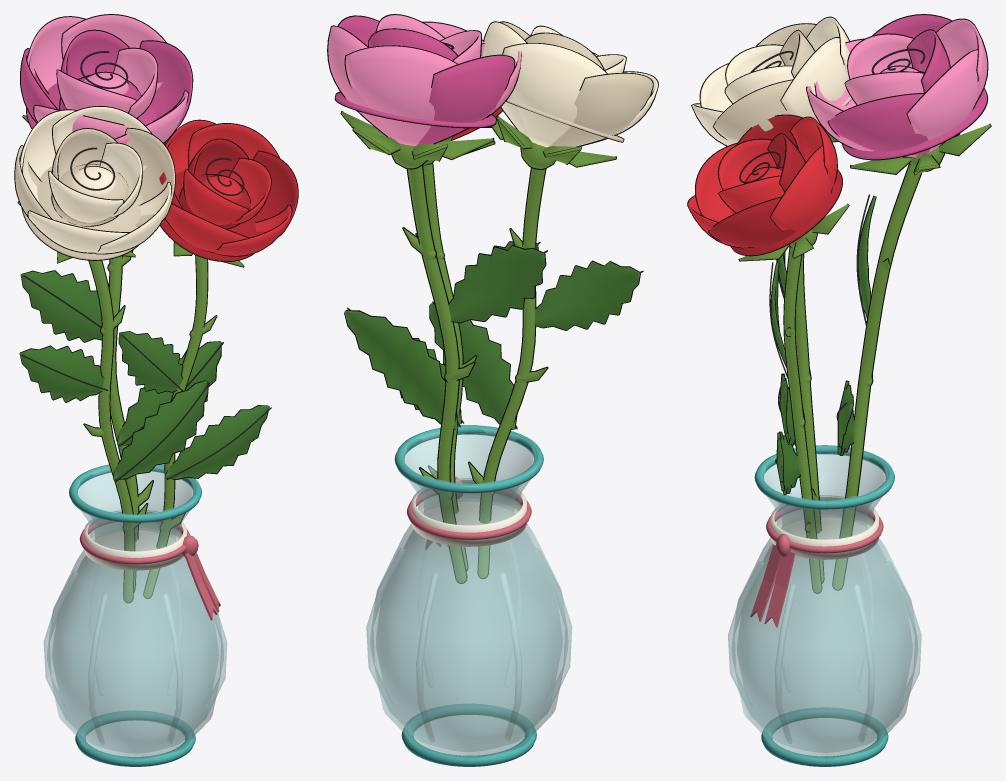
Rendered from vase_rose_flowers.glb.
3 renders of one model, left to right at view 1: azimuth 30°, elevation 25°; view 2: azimuth 150°, elevation 25°; view 3: azimuth 270°, elevation 25°, orthographic. The views are drawn at different scales.
Visible parts, largest first — view 1: Rose_glass_body, Serrated_leaf_2.001, Serrated_leaf_1.002, Serrated_leaf_2, Curved_stem.001, Serrated_leaf_1.001, Ivory_neck_collar, Serrated_leaf_1, Thick_glass_foot, Curved_stem, Outer_petal_1.002, Serrated_leaf_2.002 (+41 smaller); view 2: Rose_glass_body, Outer_petal_5.002, Outer_petal_5.001, Serrated_leaf_2.002, Curved_stem.002, Serrated_leaf_1.002, Serrated_leaf_1.001, Outer_petal_4.002, Curved_stem.001, Outer_petal_4.001, Serrated_leaf_2.001, Ivory_neck_collar (+21 smaller); view 3: Rose_glass_body, Curved_stem.002, Outer_petal_1.002, Outer_petal_6.002, Curved_stem, Ivory_neck_collar, Thick_glass_foot, Outer_petal_6.001, Outer_petal_6, Curved_stem.001, Outer_petal_1.001, Outer_petal_1 (+37 smaller).
Part boxes in pixels (x1,y1,x2,y2): Rose_glass_body: [47, 466, 223, 759]; Serrated_leaf_2.001: [113, 380, 208, 480]; Serrated_leaf_1.002: [20, 270, 101, 342]; Serrated_leaf_2: [165, 405, 269, 479]; Curved_stem.001: [88, 260, 135, 603]; Serrated_leaf_1.001: [19, 345, 104, 402]; Ivory_neck_collar: [84, 509, 186, 570]; Serrated_leaf_1: [118, 331, 183, 393]; Thick_glass_foot: [75, 710, 195, 766]; Curved_stem: [143, 255, 208, 598]; Outer_petal_1.002: [139, 40, 193, 130]; Serrated_leaf_2.002: [117, 341, 221, 445]; Rose_glass_body: [370, 425, 568, 758]; Outer_petal_5.002: [344, 45, 457, 145]; Outer_petal_5.001: [502, 43, 607, 147]; Serrated_leaf_2.002: [344, 310, 458, 429]; Curved_stem.002: [406, 165, 467, 583]; Serrated_leaf_1.002: [448, 244, 546, 323]; Serrated_leaf_1.001: [534, 260, 640, 330]; Outer_petal_4.002: [417, 54, 515, 145]; Curved_stem.001: [477, 168, 546, 578]; Outer_petal_4.001: [548, 72, 653, 146]; Serrated_leaf_2.001: [429, 303, 517, 429]; Ivory_neck_collar: [411, 478, 526, 546]; Rose_glass_body: [731, 445, 918, 758]; Curved_stem.002: [832, 163, 921, 590]; Outer_petal_1.002: [827, 93, 934, 155]; Outer_petal_6.002: [906, 49, 979, 151]; Curved_stem: [783, 246, 822, 593]; Ivory_neck_collar: [770, 495, 878, 559]; Thick_glass_foot: [761, 707, 888, 766]; Outer_petal_6.001: [780, 37, 847, 131]; Outer_petal_6: [770, 145, 832, 231]; Curved_stem.001: [795, 254, 824, 583]; Outer_petal_1.001: [713, 79, 792, 140]; Outer_petal_1: [708, 196, 795, 247].
Size of the model in its own units: 0.1687 by 0.4212 by 0.1628.
